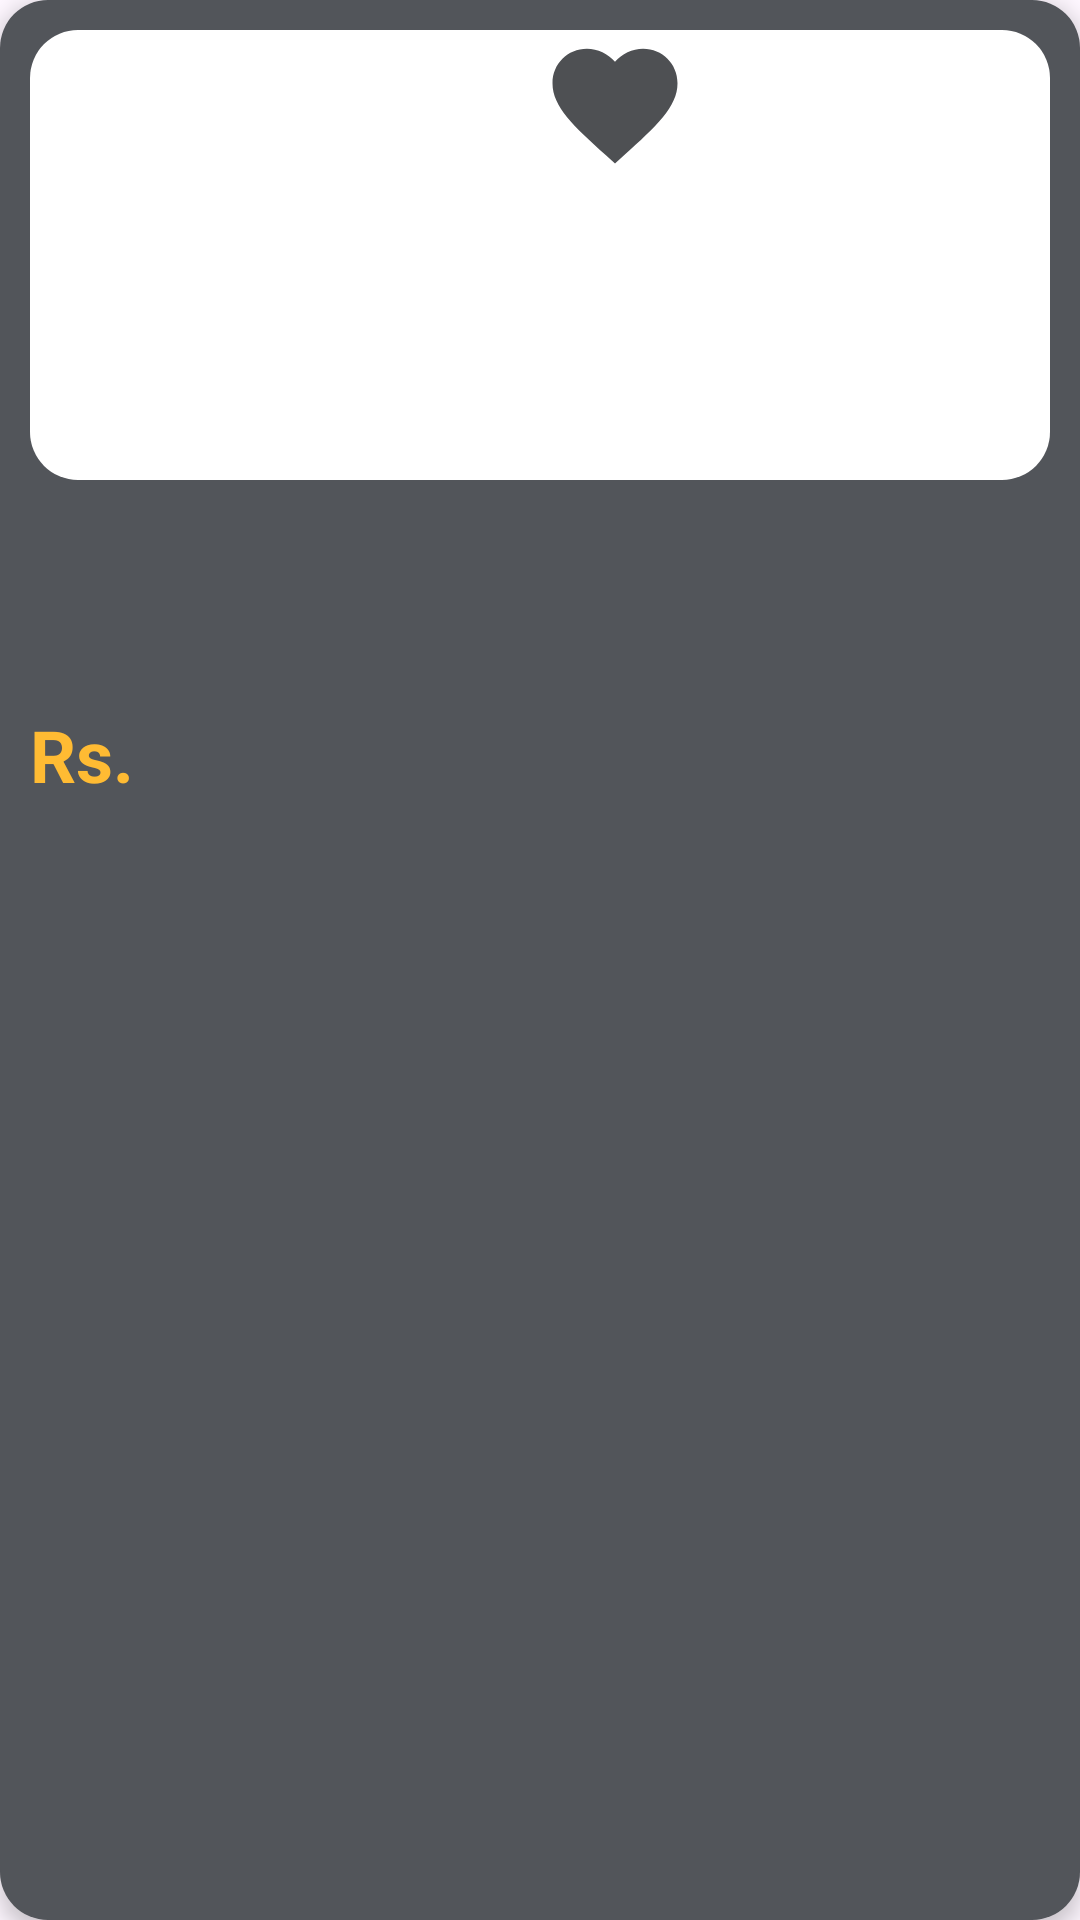

Icons on this 1080*1920 Android screen, each with its box as (x1, y1, x2, y2):
This is favorite button: (552, 48, 678, 163)
